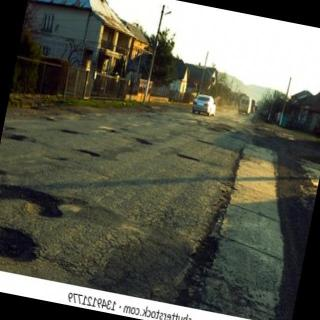pothole: (0, 184, 88, 217), (0, 226, 40, 262), (196, 119, 241, 134), (56, 128, 84, 135), (76, 150, 100, 158), (177, 153, 200, 161), (8, 133, 27, 142), (195, 138, 214, 145), (136, 138, 153, 145), (99, 127, 116, 132)
